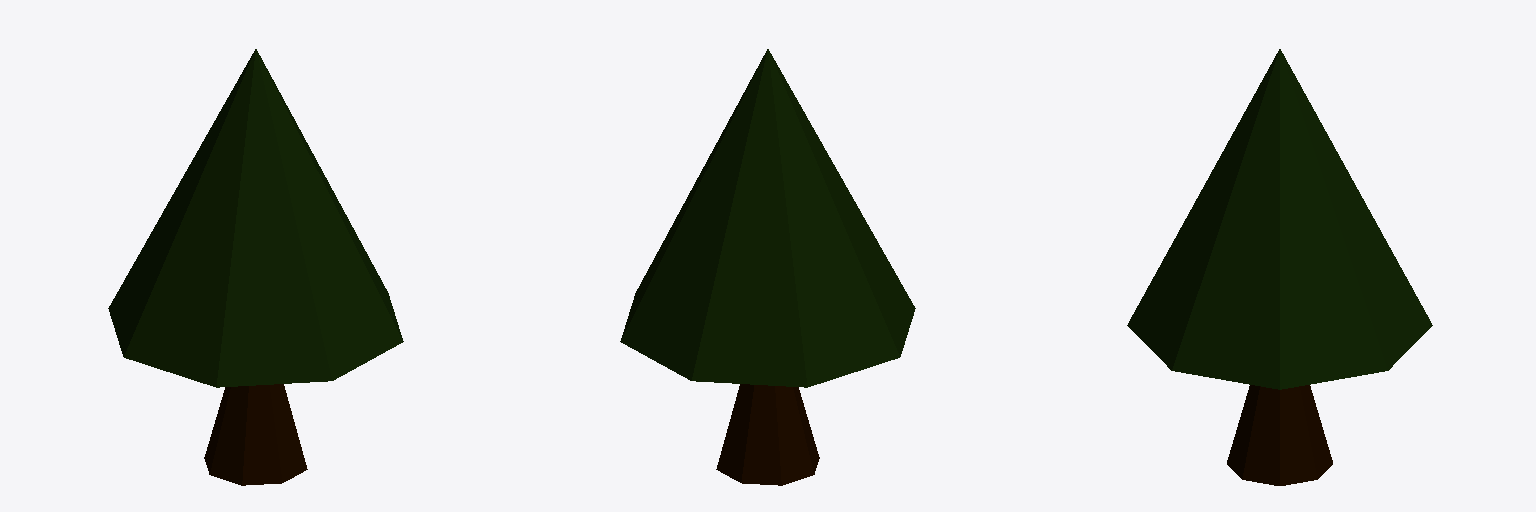
File: tree.obj
3 views of the same model, side by side, from view 1: azimuth 30°, elevation 25°; view 2: azimuth 150°, elevation 25°; view 3: azimuth 270°, elevation 25° (orthographic).
Parts seen in each view (by area): view 1: Cone, Cylinder; view 2: Cone, Cylinder; view 3: Cone, Cylinder.
Part boxes in pixels (bbox=[...]): Cone: bbox=[108, 49, 403, 387]; Cylinder: bbox=[204, 384, 307, 485]; Cone: bbox=[620, 49, 915, 387]; Cylinder: bbox=[716, 384, 819, 485]; Cone: bbox=[1127, 49, 1432, 389]; Cylinder: bbox=[1227, 385, 1332, 485].
Size of the model in its own units: 2 by 3 by 2.